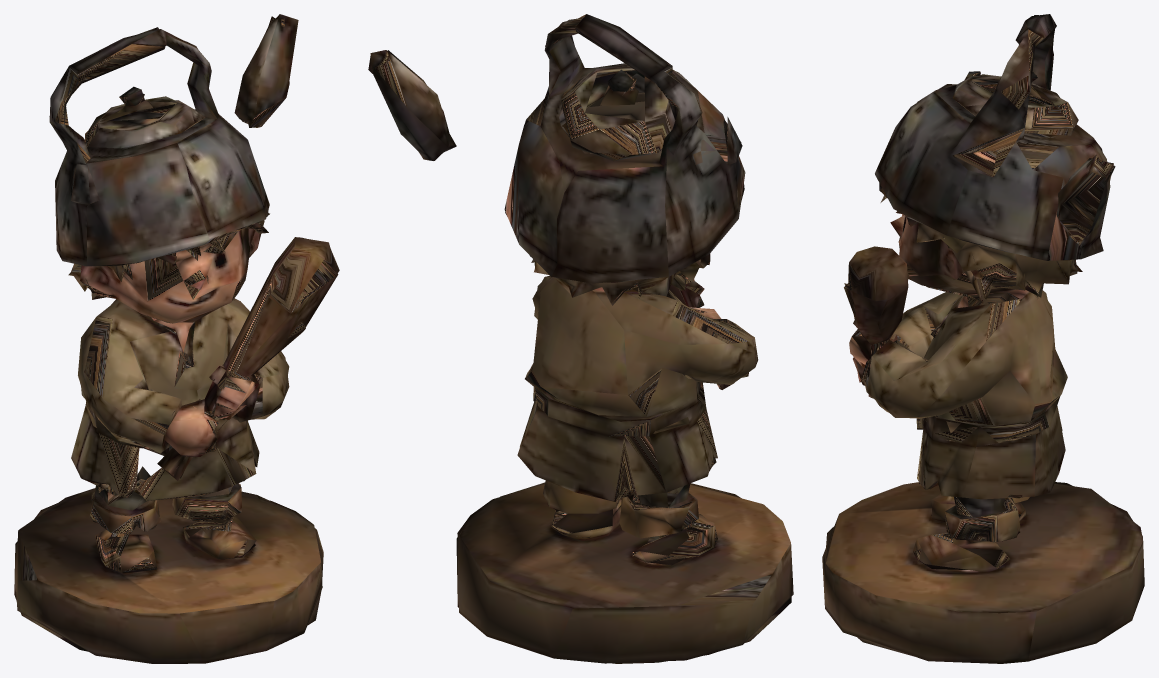
The model's file is hero-pip.glb.
The picture shows the model from 3 angles, left to right: view 1: azimuth 30°, elevation 25°; view 2: azimuth 150°, elevation 25°; view 3: azimuth 270°, elevation 25°; orthographic projection. The views are drawn at different scales.
Parts seen in each view (by area): view 1: geometry_0; view 2: geometry_0; view 3: geometry_0.
Part boxes in pixels (bbox=[...]): geometry_0: bbox=[14, 14, 339, 663]; geometry_0: bbox=[368, 14, 793, 663]; geometry_0: bbox=[822, 14, 1144, 663].
Bounding box in the file's own units: 0.5164 × 0.8584 × 0.4361.
1 material, 1 textured.
